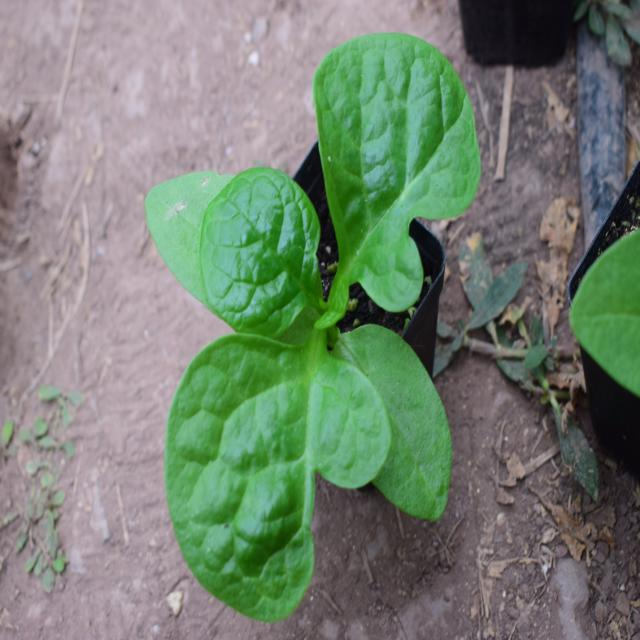Ceylon spinach: (151, 45, 492, 585)
